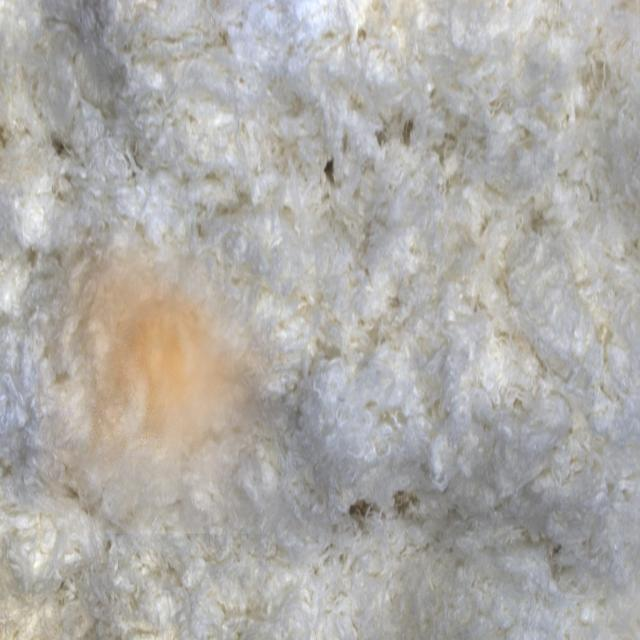dust: (38, 223, 282, 534)
